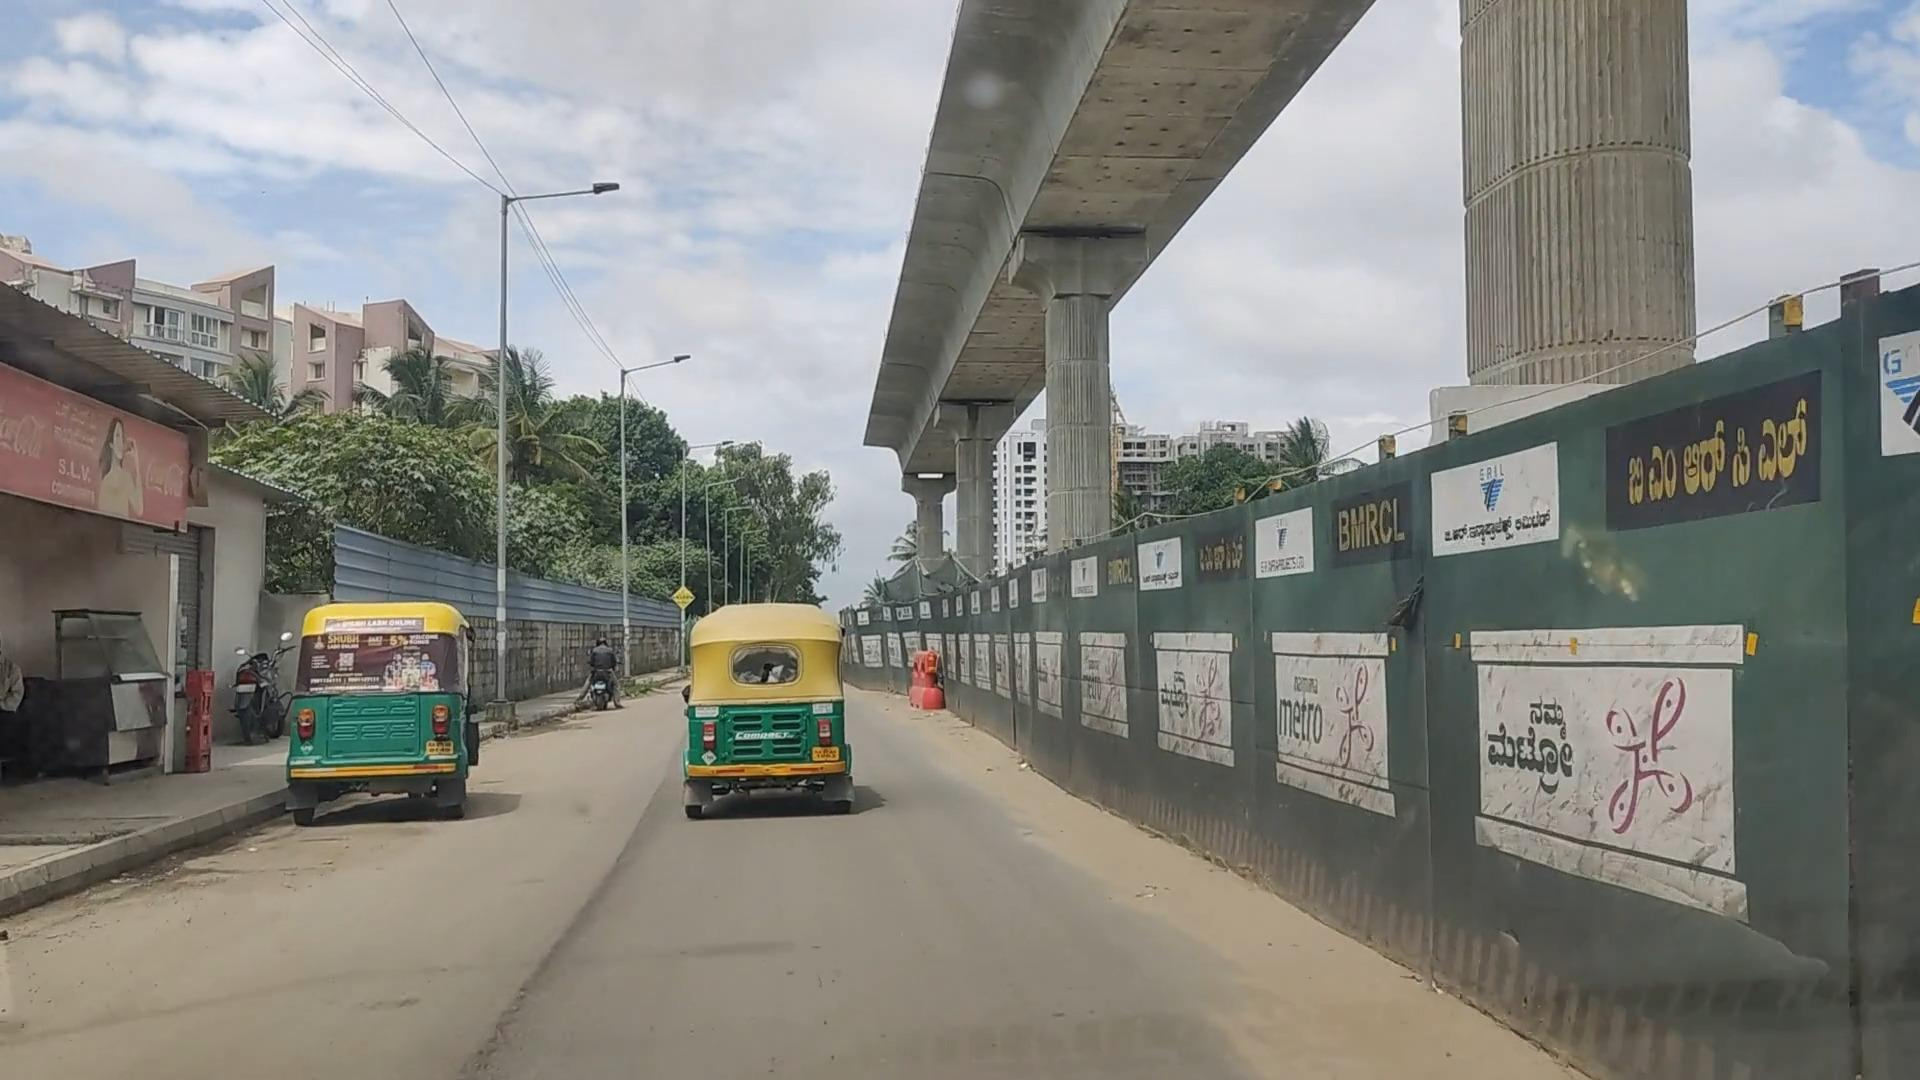LMV: (258, 571, 495, 836), (669, 595, 870, 841)
